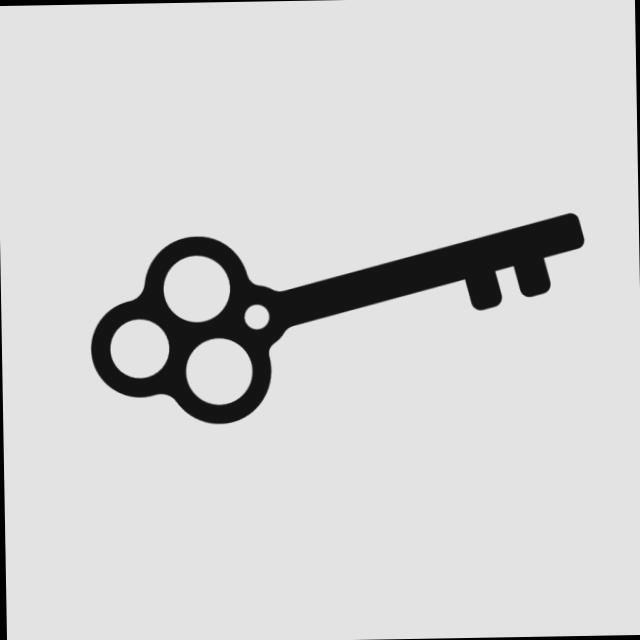key: (77, 205, 591, 435)
